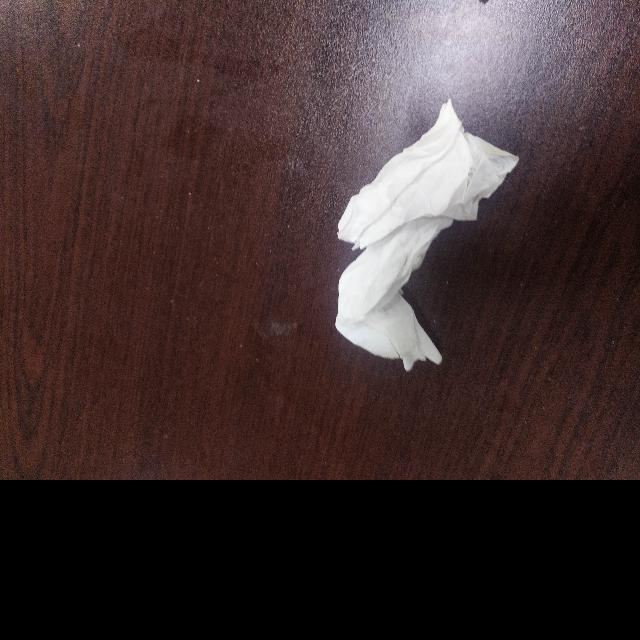kitchen paper: (332, 101, 514, 391)
